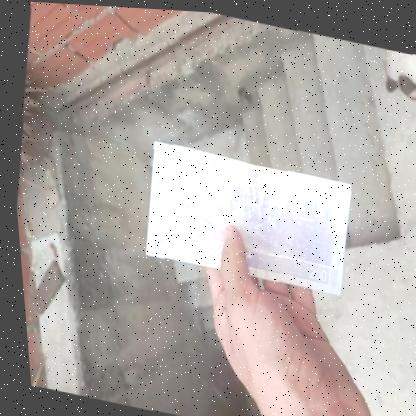two_hundred-back-vef: (132, 136, 356, 296)
